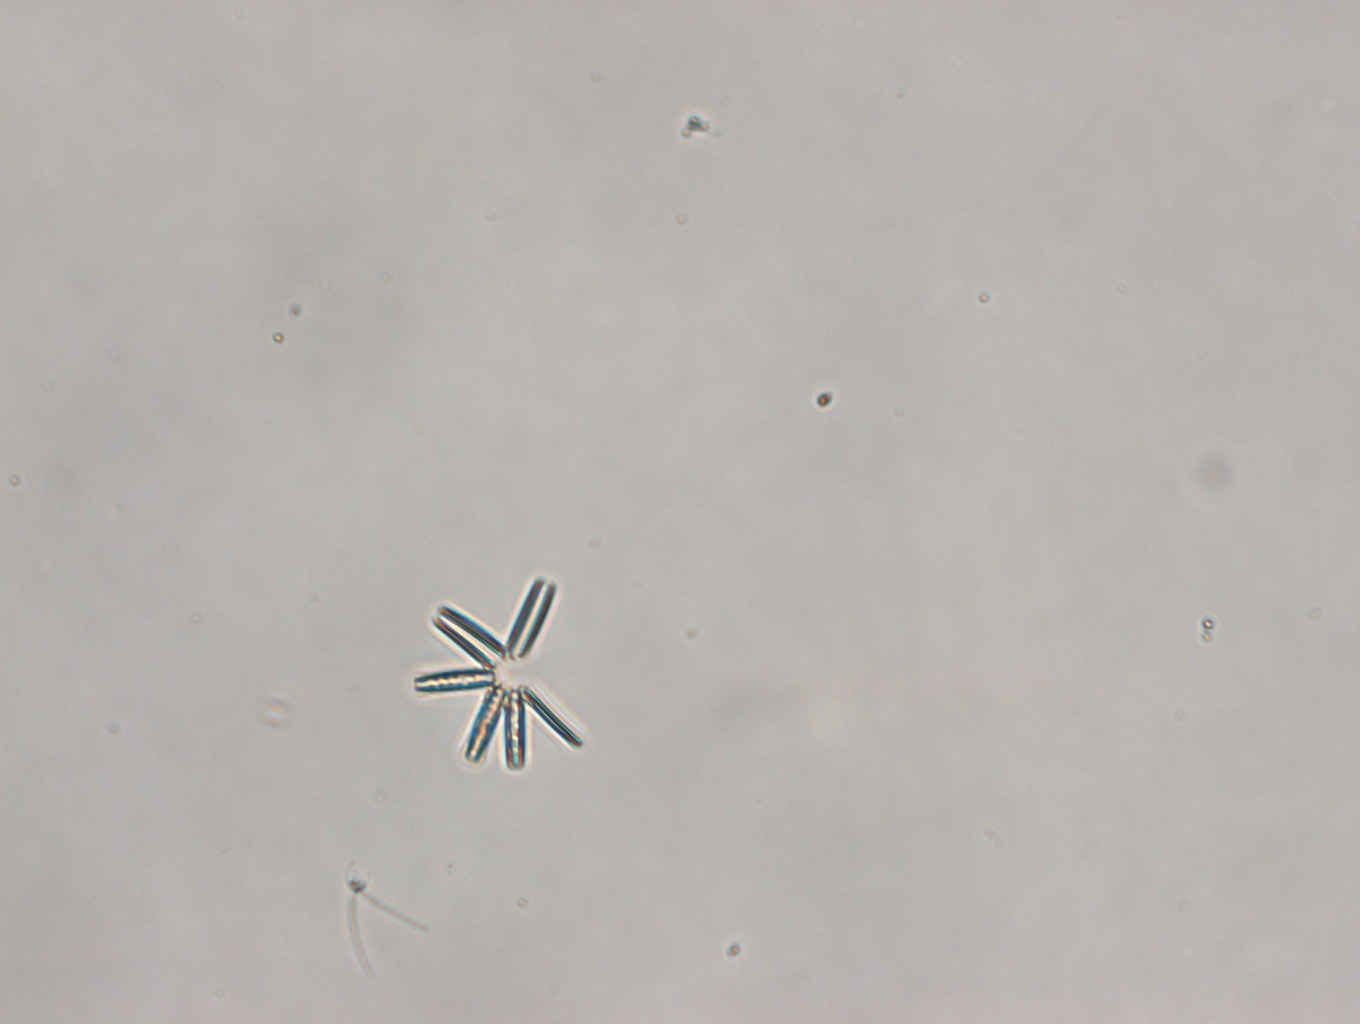thalassionema nitzschioides: (410, 577, 584, 769)
